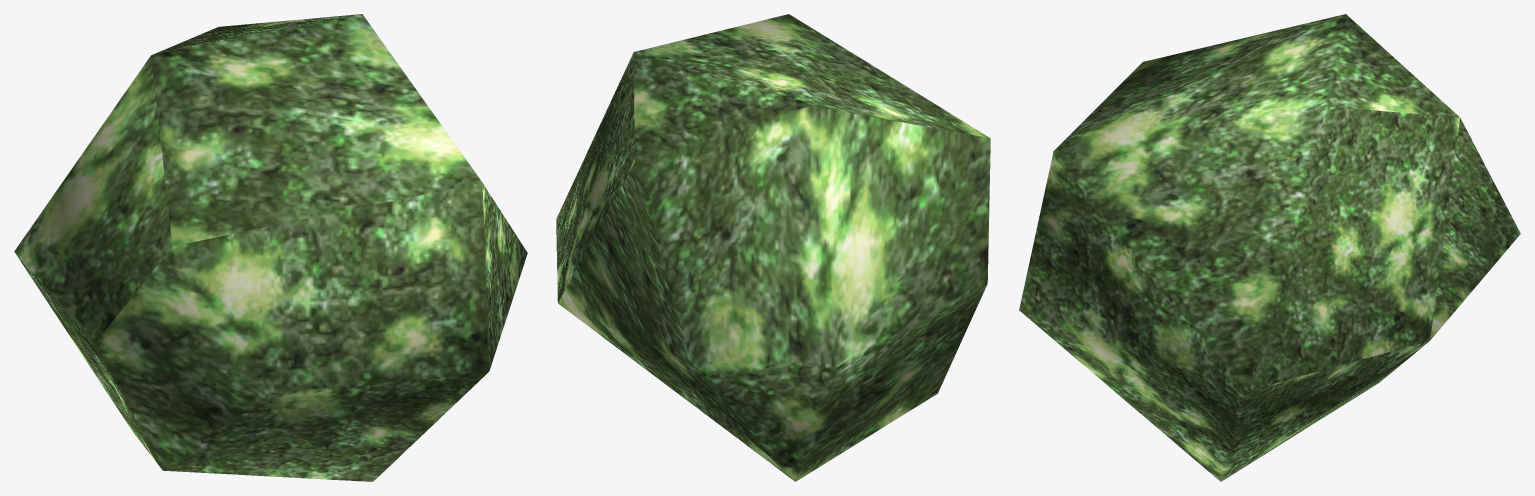
Rendered from asteroid_acid_radial_s01_l3.fbx.
3 renders of one model, left to right at view 1: azimuth 30°, elevation 25°; view 2: azimuth 150°, elevation 25°; view 3: azimuth 270°, elevation 25°, orthographic. The views are drawn at different scales.
Visible parts, largest first — view 1: mesh_node; view 2: mesh_node; view 3: mesh_node.
Part boxes in pixels (x1=…): mesh_node: x1=14, y1=14, x2=527, y2=481; mesh_node: x1=556, y1=14, x2=990, y2=481; mesh_node: x1=1019, y1=14, x2=1520, y2=481.
Bounding box in the file's own units: 5.25 × 4.68 × 5.37.
1 material, 1 textured.
